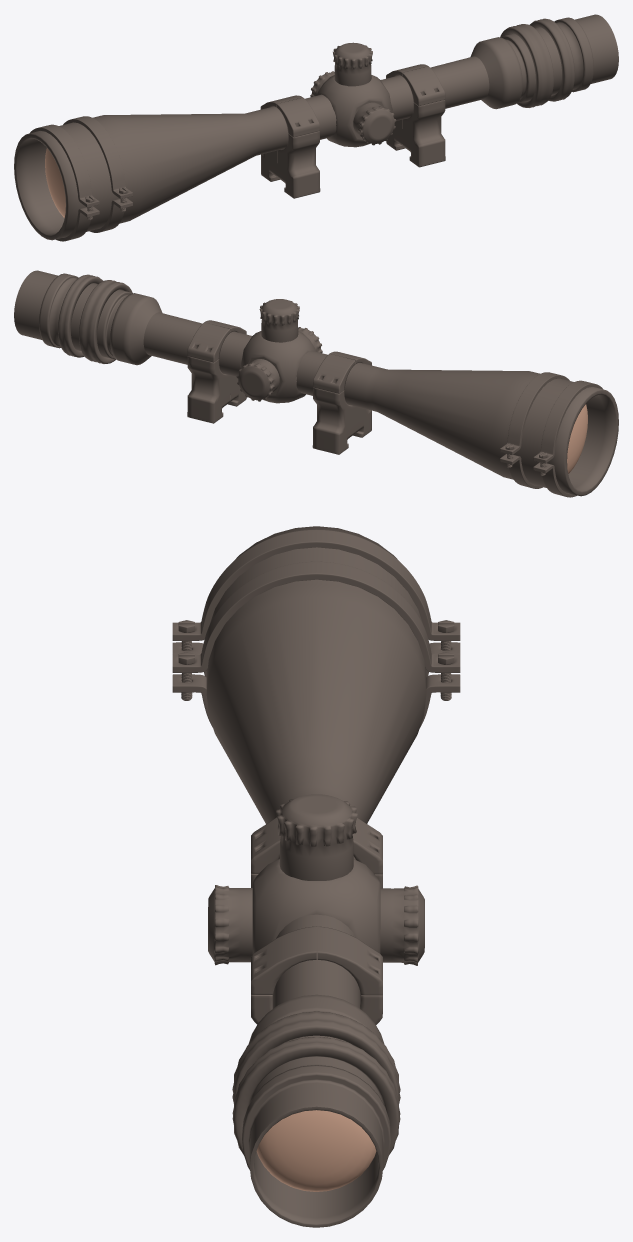
File: scope_01.fbx
3 views of the same model, one above another, from view 1: azimuth 30°, elevation 25°; view 2: azimuth 150°, elevation 25°; view 3: azimuth 270°, elevation 25° (orthographic). The views are drawn at different scales.
Parts seen in each view (by area): view 1: Sphere.001, sdsd, Sphere.004, Sphere.005, Sphere.006, Sphere.007; view 2: Sphere.001, sdsd, Sphere.004, Sphere.005, Sphere.006, Sphere.007; view 3: Sphere.001, Sphere.004, sdsd, Sphere.005, Sphere.006, Sphere.007.
Part boxes in pixels (left/top/right/bottom): Sphere.001: left=14, top=14, right=618, bottom=240; sdsd: left=260, top=64, right=445, bottom=198; Sphere.004: left=29, top=116, right=132, bottom=241; Sphere.005: left=317, top=75, right=392, bottom=147; Sphere.006: left=310, top=71, right=396, bottom=145; Sphere.007: left=333, top=42, right=372, bottom=86; Sphere.001: left=14, top=270, right=618, bottom=496; sdsd: left=187, top=320, right=371, bottom=454; Sphere.004: left=500, top=372, right=603, bottom=497; Sphere.005: left=240, top=331, right=315, bottom=403; Sphere.006: left=236, top=327, right=322, bottom=401; Sphere.007: left=259, top=299, right=299, bottom=342; Sphere.001: left=206, top=526, right=426, bottom=1227; Sphere.004: left=172, top=529, right=460, bottom=727; sdsd: left=251, top=817, right=382, bottom=1024; Sphere.005: left=252, top=858, right=380, bottom=954; Sphere.006: left=208, top=885, right=424, bottom=965; Sphere.007: left=276, top=794, right=357, bottom=880.
Size of the model in its own units: 120 by 24.48 by 26.56.
